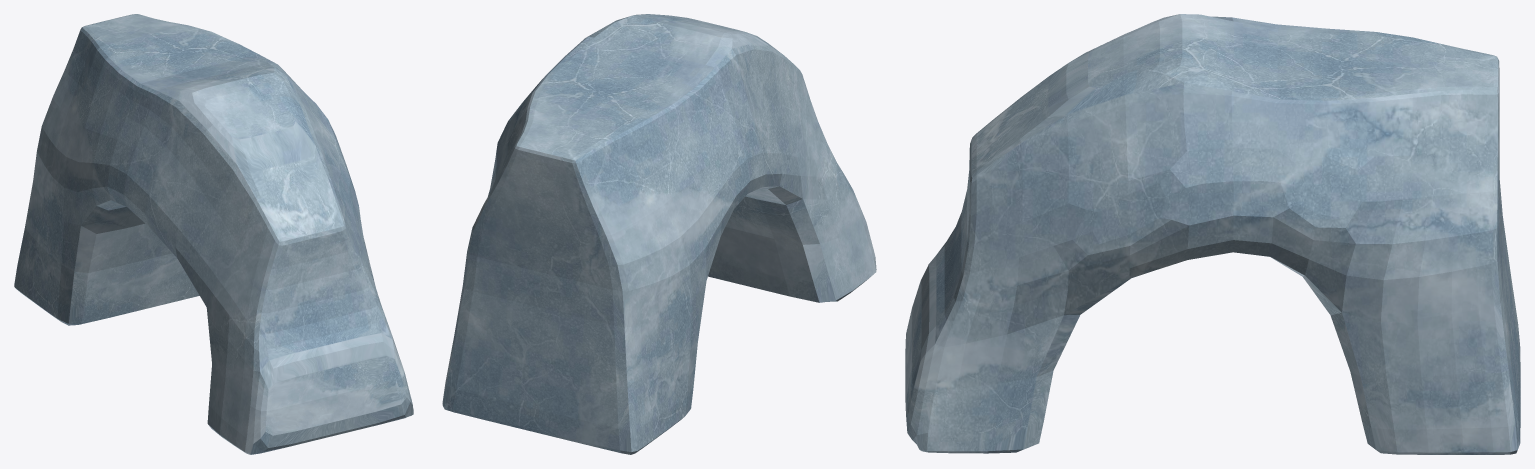
The model's file is Iceberg1.fbx.
The picture shows the model from 3 angles, left to right: view 1: azimuth 30°, elevation 25°; view 2: azimuth 150°, elevation 25°; view 3: azimuth 270°, elevation 25°; orthographic projection. The views are drawn at different scales.
Visible parts, largest first — view 1: iCEBERG 1; view 2: iCEBERG 1; view 3: iCEBERG 1.
Part boxes in pixels (x1=…): iCEBERG 1: x1=14, y1=14, x2=413, y2=454; iCEBERG 1: x1=442, y1=14, x2=876, y2=454; iCEBERG 1: x1=905, y1=14, x2=1520, y2=454.
Size of the model in its own units: 154 by 208 by 319.
1 material, 1 textured.
